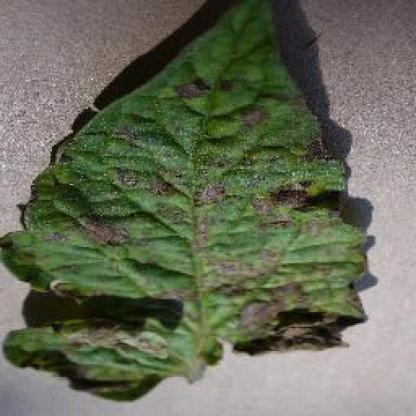Tomato_Blight: (2, 0, 367, 384)
